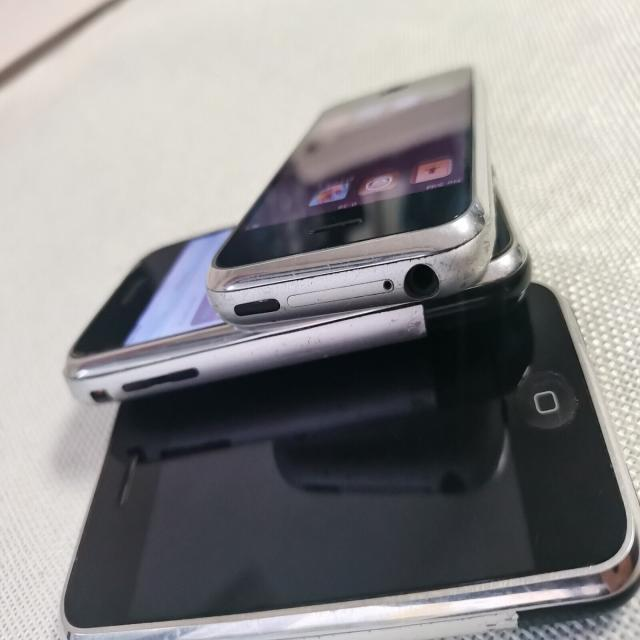Dents: (463, 201, 490, 282), (433, 244, 478, 291)
